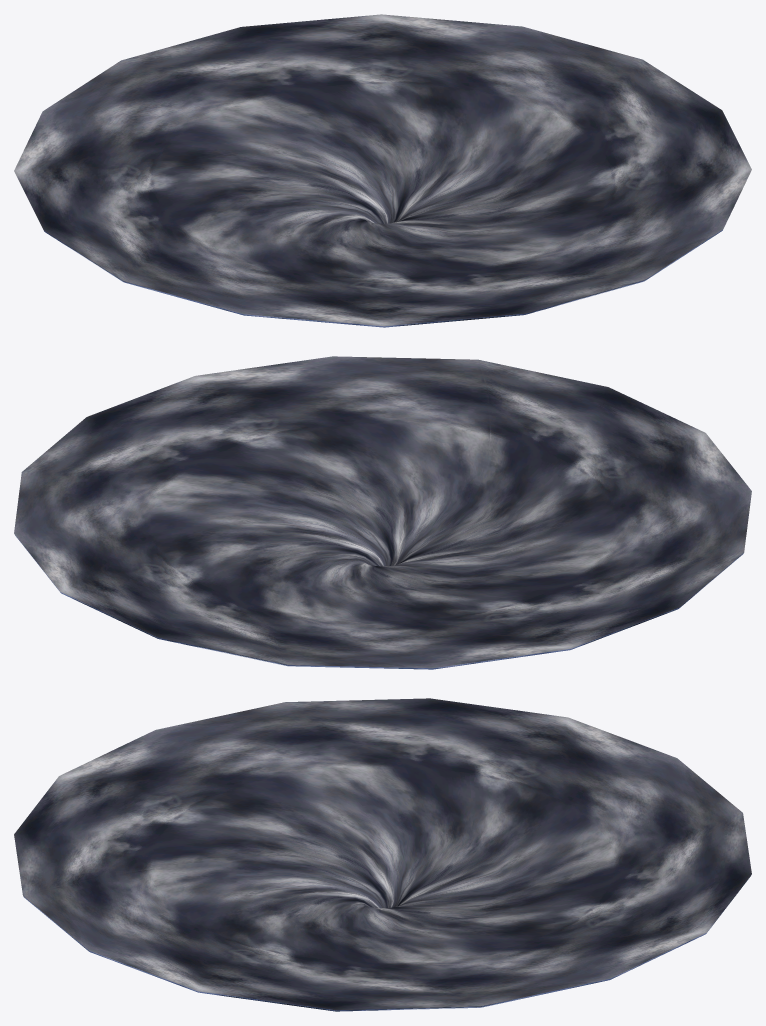
Rendered from RM_WHIRLPOOL.fbx.
3 renders of one model, top to bottom at view 1: azimuth 30°, elevation 25°; view 2: azimuth 150°, elevation 25°; view 3: azimuth 270°, elevation 25°, orthographic.
Parts seen in each view (by area): view 1: RM_WHIRLPOOL; view 2: RM_WHIRLPOOL; view 3: RM_WHIRLPOOL.
Boxes of the visible parts, x1,y1,x2,y2 form: RM_WHIRLPOOL: (14,14,751,327); RM_WHIRLPOOL: (14,356,751,669); RM_WHIRLPOOL: (14,698,751,1011).
Bounding box in the file's own units: 411598 × 46170 × 411598.
Materials: 3 (3 with a texture image).
